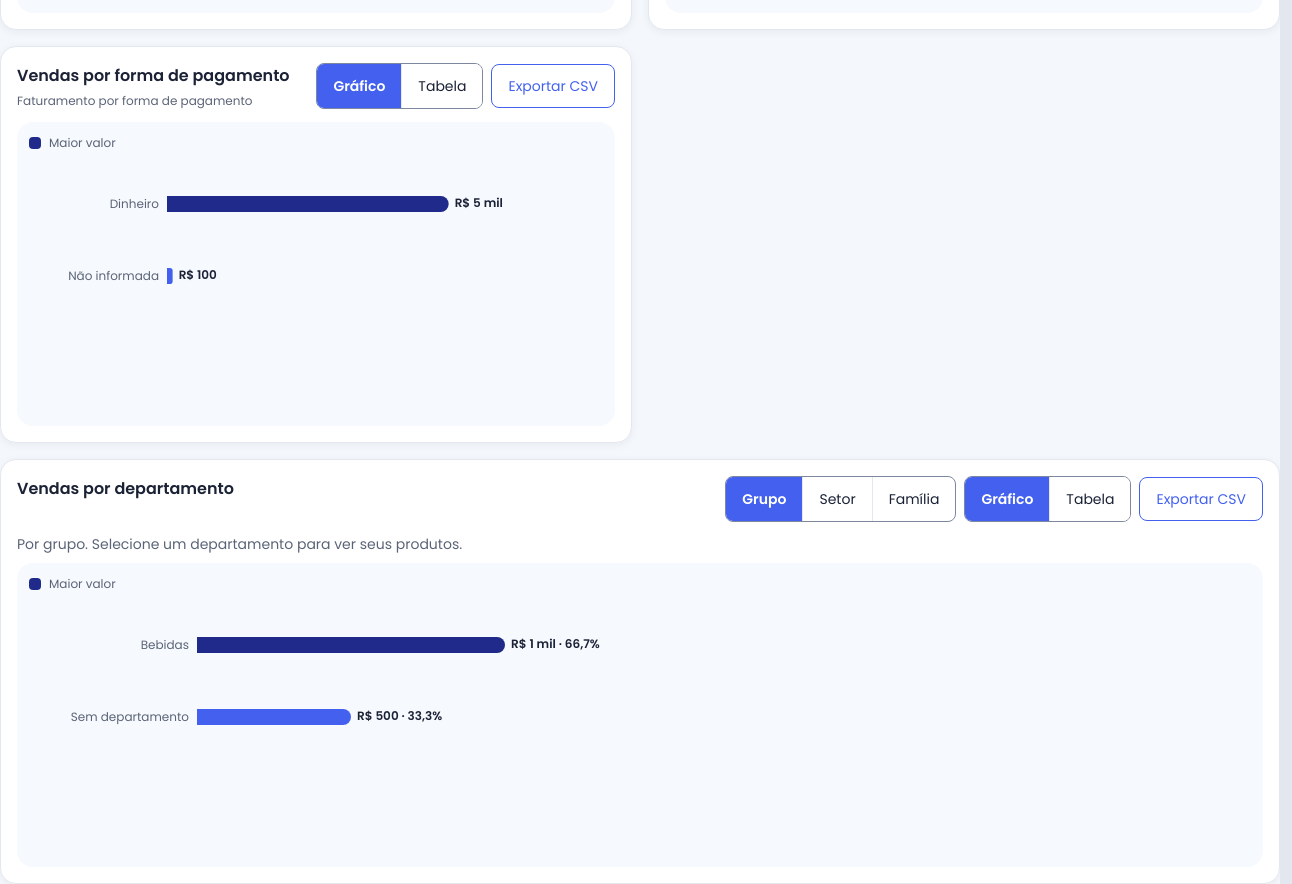
Scenario: VendasCharts › faz drill-down nos produtos do departamento e volta ao nível
The width and height of the screenshot is (1292, 884).
(page scrolled)
Click the button "Tabela" in the row of "Família" at {"x": 1090, "y": 499}, box [1049,477,1130,521]
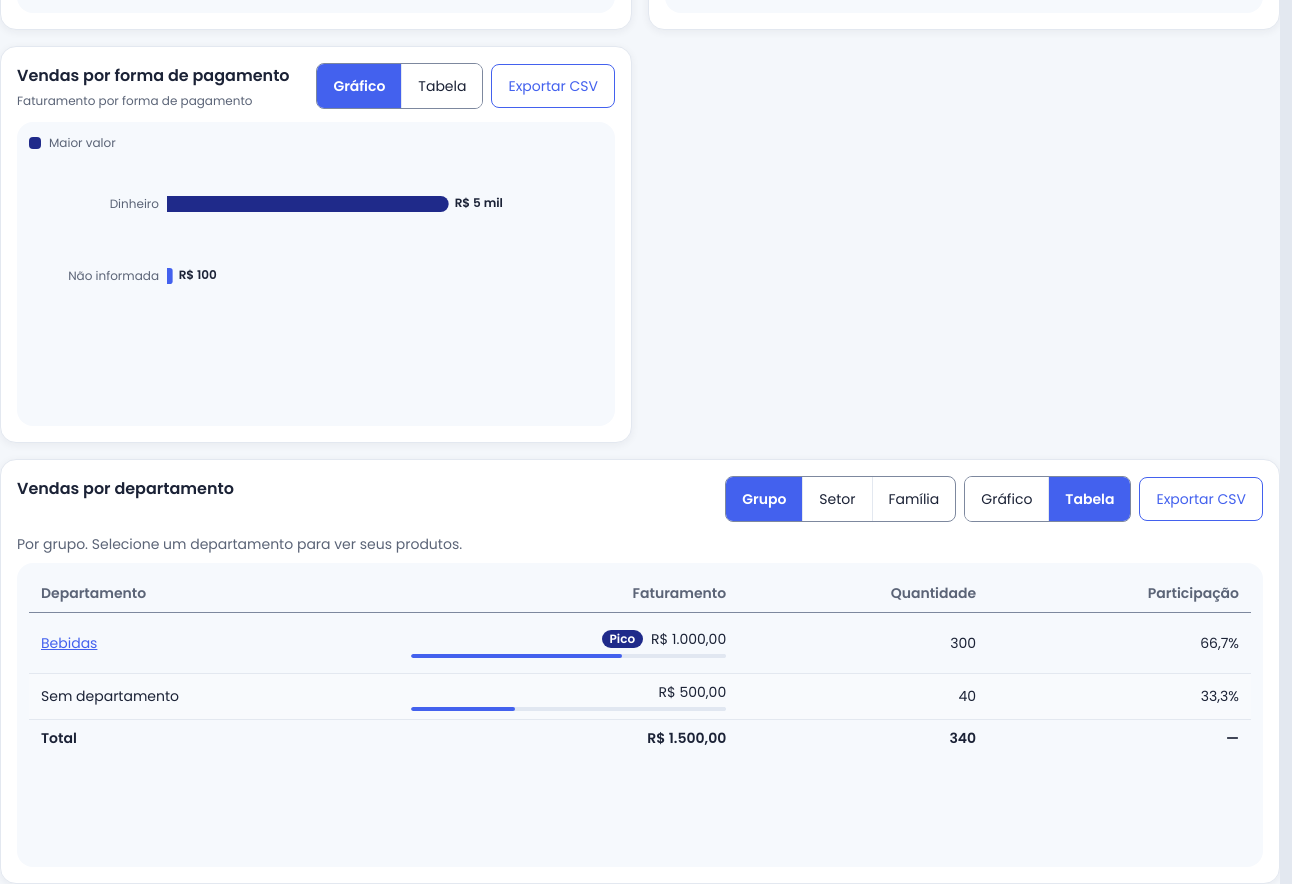
Click the button "Bebidas" at {"x": 69, "y": 643}, box [41,621,97,665]
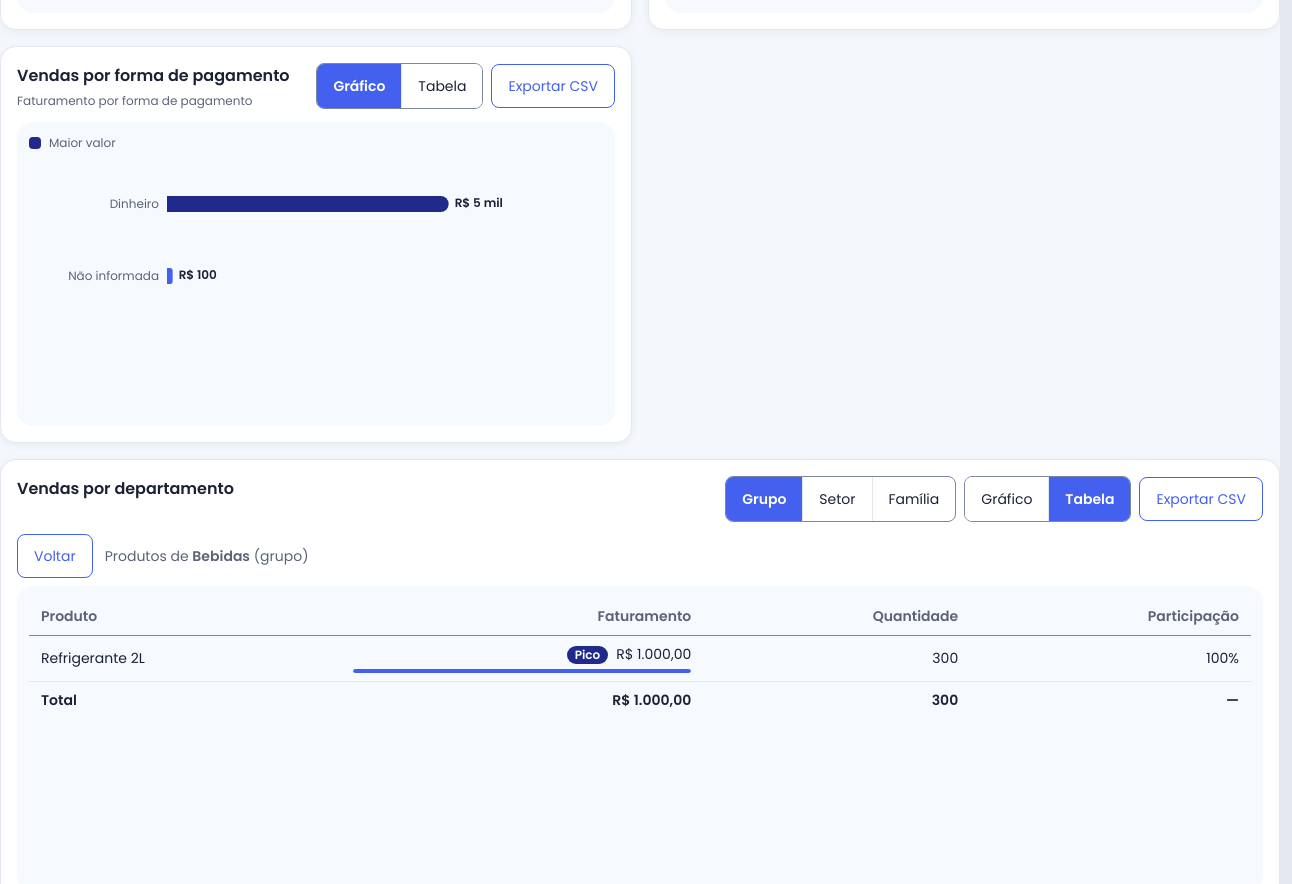
Expected: the column heading "Refrigerante 2L" is shown, [29,636,341,682]
Click the button "Voltar" at {"x": 55, "y": 556}, box [17,534,93,578]
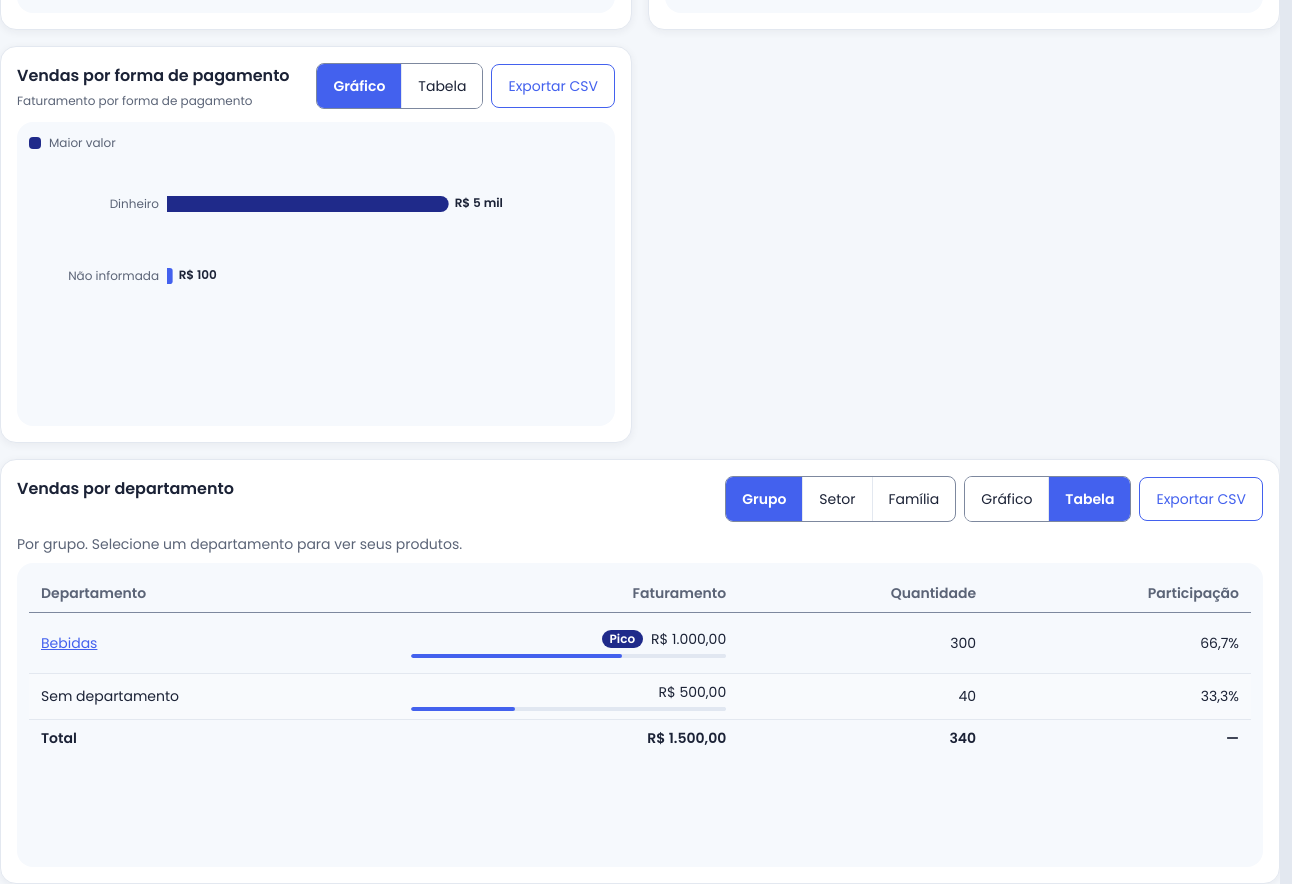
Expected: the table named "Vendas por departamento (tabela)" shows "Bebidas", [41,621,97,665]
